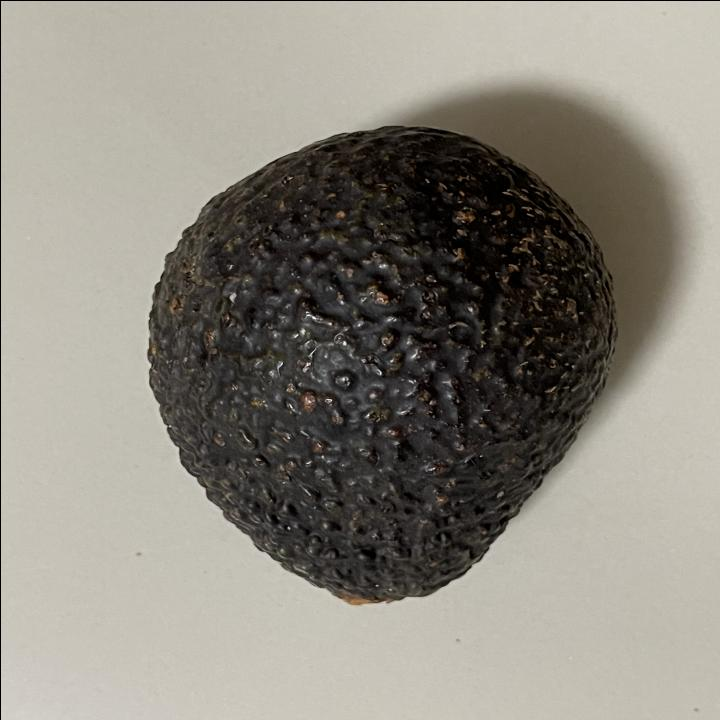Level1: (119, 115, 639, 615)
